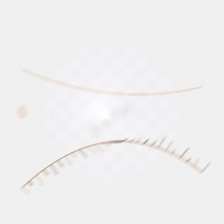hemorrhage_spot: (82, 93, 159, 154)
